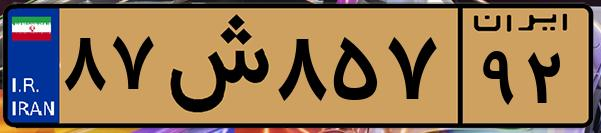2: (525, 38, 570, 115)
5: (330, 28, 385, 110)
7: (385, 28, 445, 110), (110, 28, 158, 98)
8: (270, 28, 330, 110), (57, 26, 110, 100)
9: (475, 38, 525, 113)
ش: (158, 12, 270, 120)
